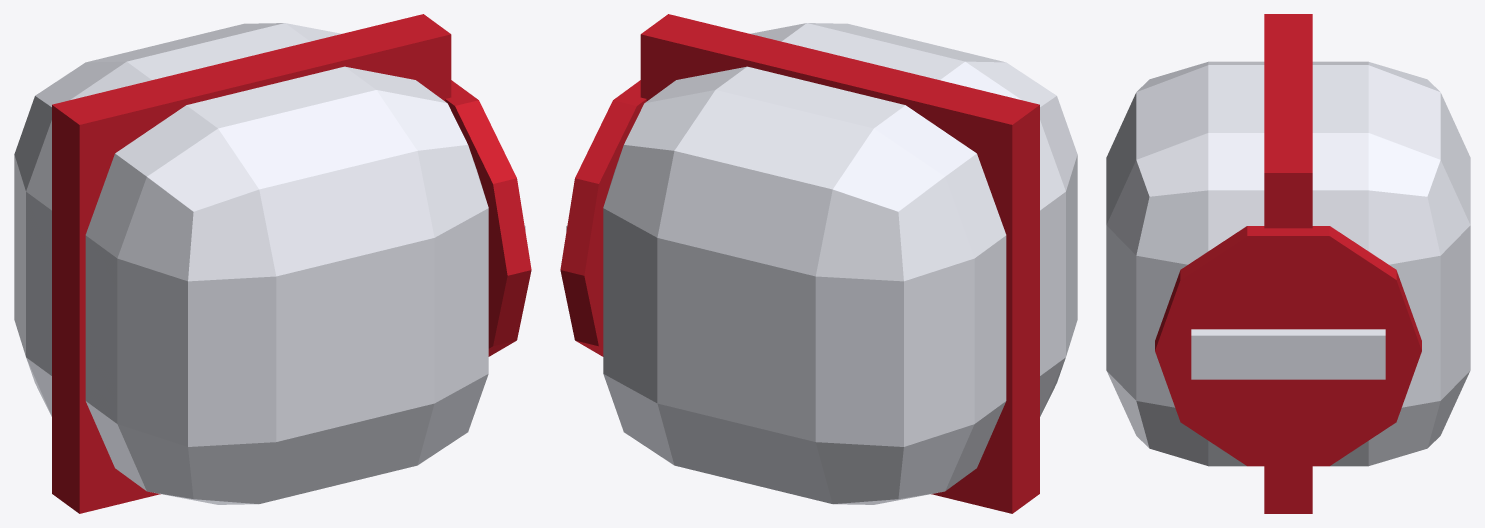
The model's file is cadeau_interdiction.glb.
The picture shows the model from 3 angles, left to right: view 1: azimuth 30°, elevation 25°; view 2: azimuth 150°, elevation 25°; view 3: azimuth 270°, elevation 25°; orthographic projection. The views are drawn at different scales.
Visible parts, largest first — view 1: p_rbox.1449, p_box.4885, p_cyl.960; view 2: p_rbox.1449, p_box.4885, p_cyl.960; view 3: p_rbox.1449, p_cyl.960, p_box.4885, p_box.4884.
Boxes of the visible parts, x1,y1,x2,y2 form: p_rbox.1449: (14, 23, 488, 504); p_box.4885: (52, 14, 451, 513); p_cyl.960: (445, 80, 531, 356); p_rbox.1449: (603, 23, 1077, 504); p_box.4885: (640, 14, 1039, 513); p_cyl.960: (560, 80, 646, 356); p_rbox.1449: (1106, 61, 1470, 466); p_cyl.960: (1155, 226, 1421, 466); p_box.4885: (1264, 14, 1312, 513); p_box.4884: (1191, 329, 1385, 379).
Bounding box in the file's own units: 0.3375 × 0.31 × 0.3.
